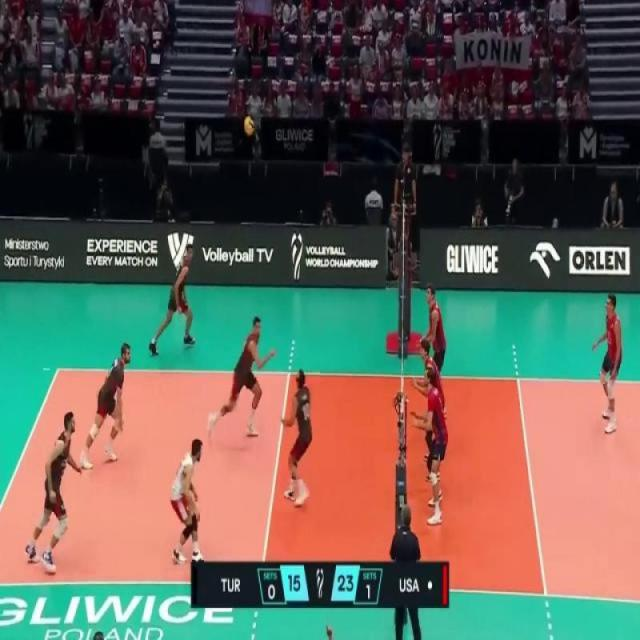volleyball: (242, 112, 256, 140)
